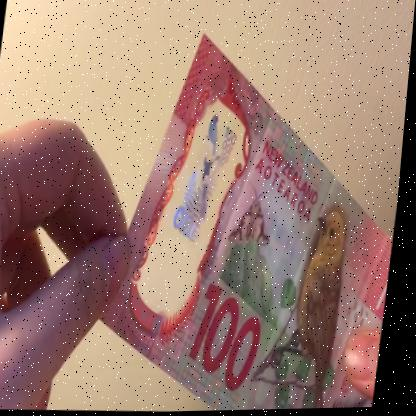100B: (172, 109, 245, 256)
